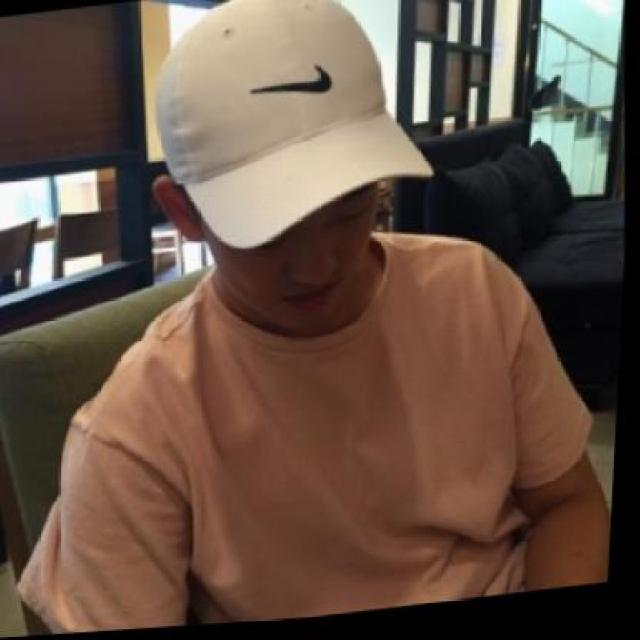hat: (137, 0, 440, 262)
